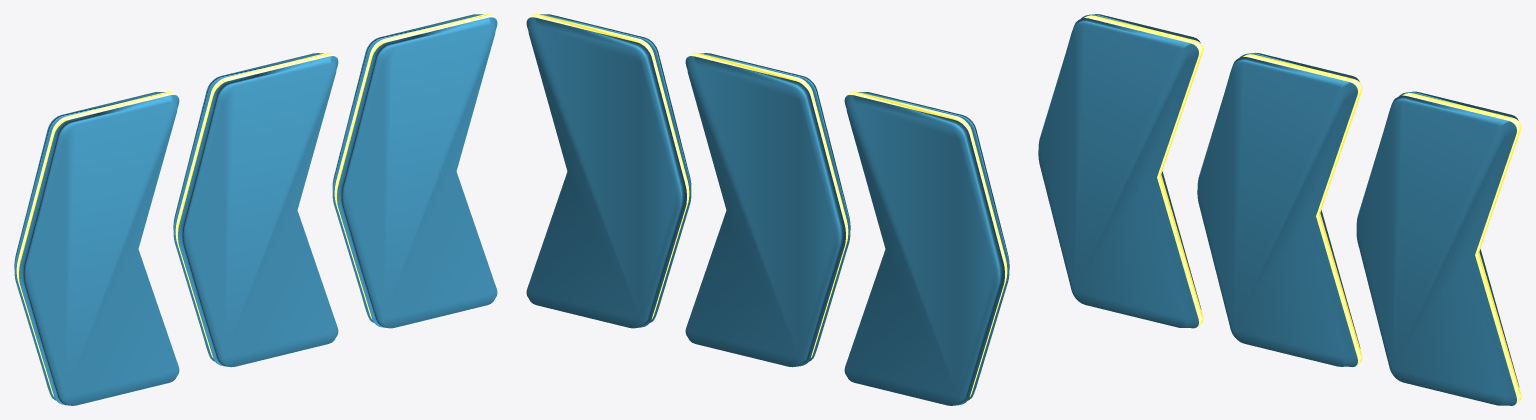
Rendered from asset.gltf.
3 renders of one model, left to right at view 1: azimuth 30°, elevation 25°; view 2: azimuth 150°, elevation 25°; view 3: azimuth 330°, elevation 25°, orthographic.
Visible parts, largest first — view 1: A1.002, A1, A1.001; view 2: A1.002, A1, A1.001; view 3: A1.002, A1, A1.001.
Boxes of the visible parts, <box> form: A1.002: <box>332,14,497,328</box>; A1: <box>14,91,179,405</box>; A1.001: <box>173,53,338,367</box>; A1.002: <box>526,14,691,328</box>; A1: <box>844,91,1009,405</box>; A1.001: <box>685,53,850,367</box>; A1.002: <box>1356,91,1521,405</box>; A1: <box>1038,14,1203,328</box>; A1.001: <box>1197,52,1362,366</box>.
Bounding box in the file's own units: 9.03 × 5.13 × 0.4811.
